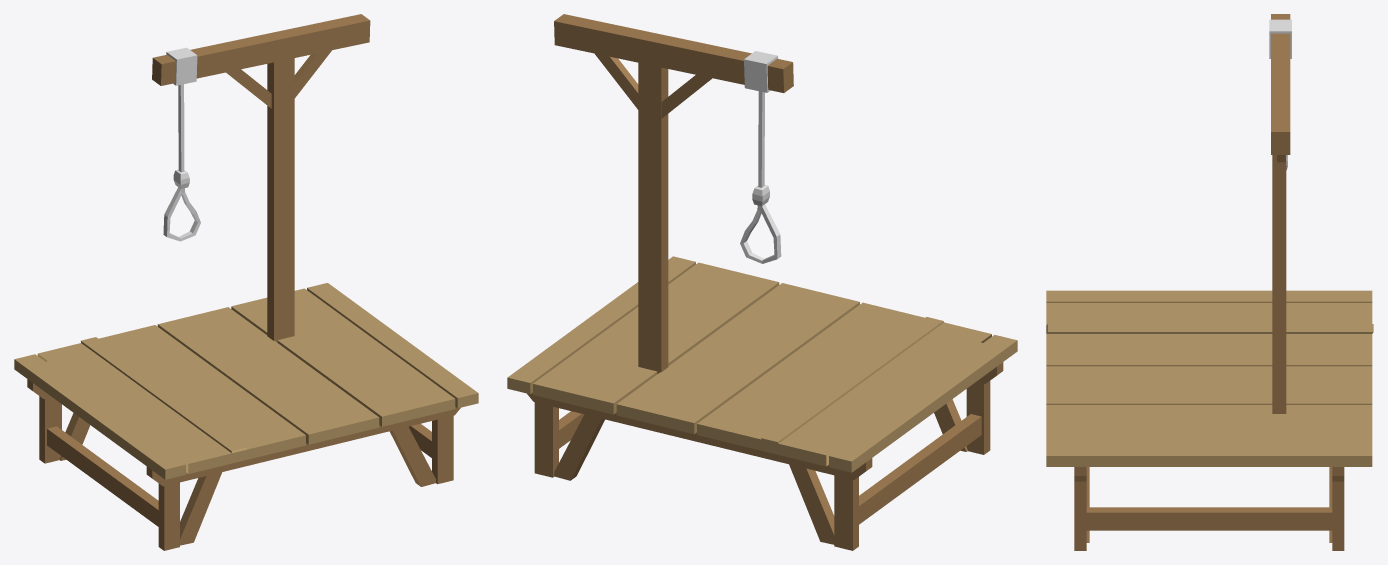
The model's file is castle_gibbet_01.fbx.
3 views of the same model, side by side, from view 1: azimuth 30°, elevation 25°; view 2: azimuth 150°, elevation 25°; view 3: azimuth 270°, elevation 25° (orthographic). The views are drawn at different scales.
Parts seen in each view (by area): view 1: castle_gibbet_01; view 2: castle_gibbet_01; view 3: castle_gibbet_01.
Part boxes in pixels (bbox=[...]): castle_gibbet_01: bbox=[14, 14, 478, 550]; castle_gibbet_01: bbox=[507, 14, 1017, 550]; castle_gibbet_01: bbox=[1046, 14, 1373, 550].
Bounding box in the file's own units: 343 × 419 × 287.
